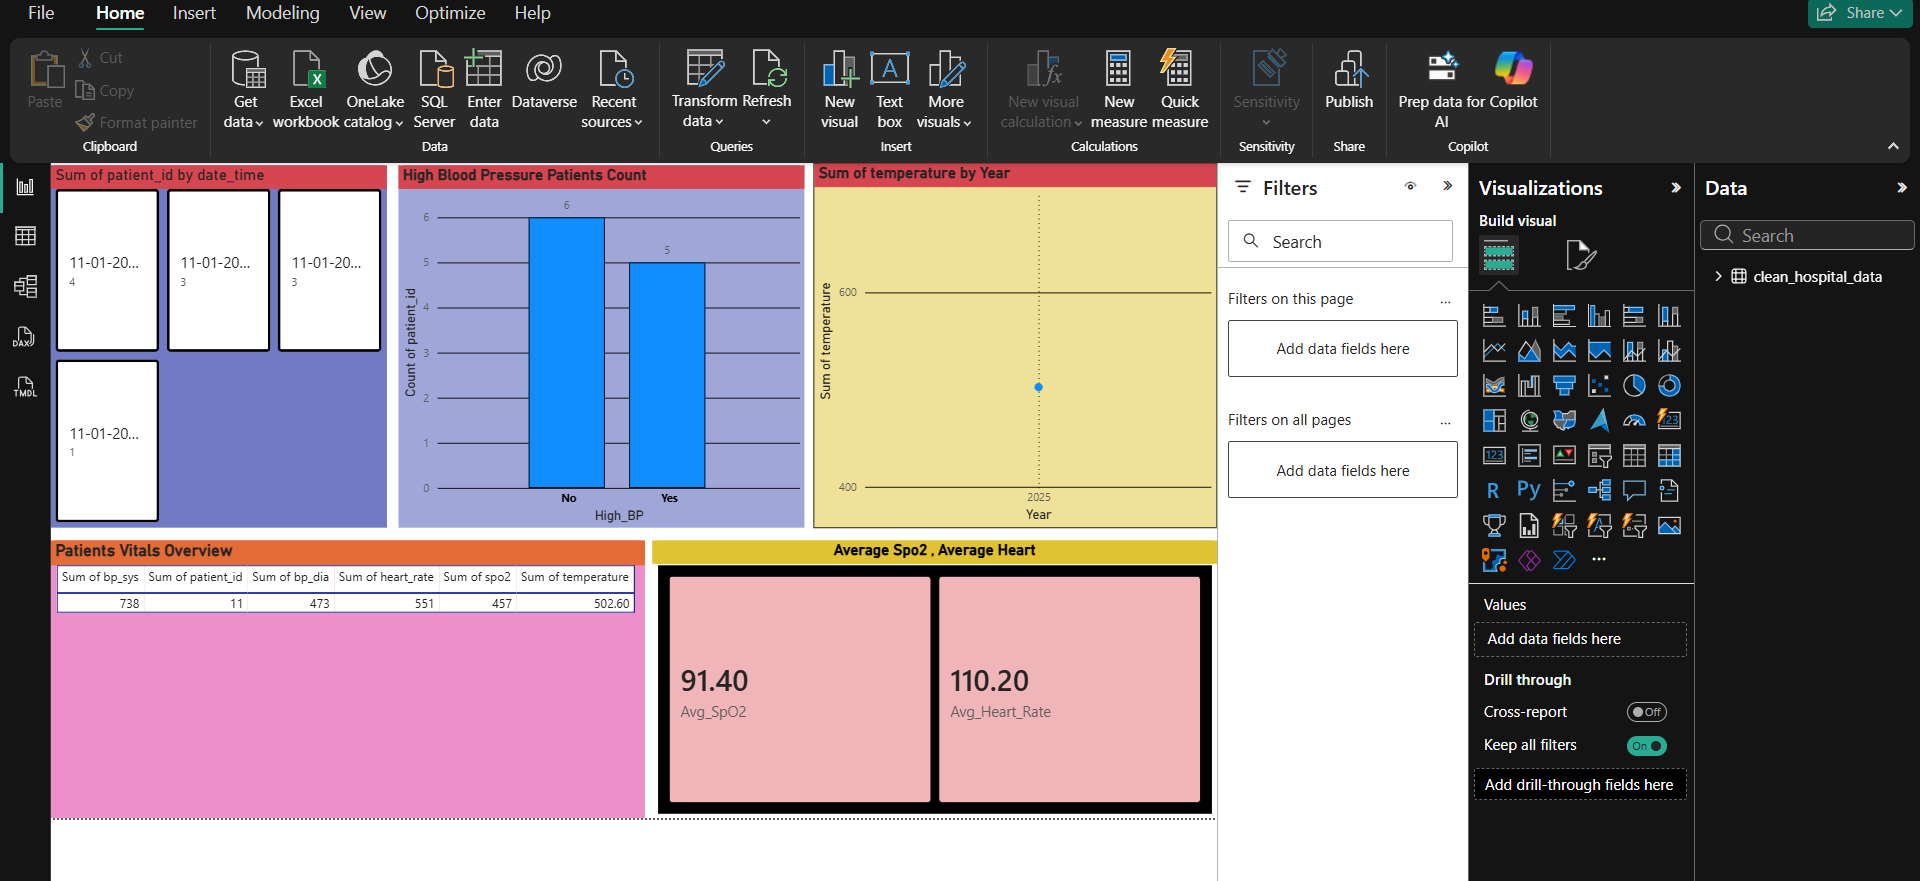

What the dashboard file says about the page in this screenshot:
{"tool":"powerbi","page":{"name":"Page 1","canvas":[1280,720],"ordinal":0},"visuals":[{"type":"lineChart","fields":{"Category":["clean_hospital_data.date_time.Variation.Date Hierarchy.Year","clean_hospital_data.date_time.Variation.Date Hierarchy.Quarter","clean_hospital_data.date_time.Variation.Date Hierarchy.Month","clean_hospital_data.date_time.Variation.Date Hierarchy.Day"],"Y":["Sum(clean_hospital_data.temperature)"]},"box":[837.1,0,443.2,400.7],"z":0},{"type":"cardVisual","title":"Average Spo2 , Average Heart","fields":{"Data":["clean_hospital_data.Avg_SpO2","clean_hospital_data.Avg_Heart_Rate"]},"box":[660,414.4,620.2,306],"z":1000},{"type":"columnChart","title":"High Blood Pressure Patients Count","fields":{"Category":["clean_hospital_data.High_BP"],"Y":["Sum(clean_hospital_data.patient_id)"]},"box":[381.5,2.7,446,397.9],"z":2000},{"type":"tableEx","title":"Patients Vitals Overview","fields":{"Values":["Sum(clean_hospital_data.bp_sys)","Sum(clean_hospital_data.patient_id)","Sum(clean_hospital_data.bp_dia)","Sum(clean_hospital_data.heart_rate)","Sum(clean_hospital_data.spo2)","Sum(clean_hospital_data.temperature)"]},"box":[0,414.4,651.8,306],"z":3000},{"type":"actionButton","box":[0,0,100,40],"z":4000},{"type":"advancedSlicerVisual","fields":{"Values":["clean_hospital_data.date_time"],"Label":["Sum(clean_hospital_data.patient_id)"]},"box":[0,2.7,369.1,397.9],"z":5000}]}

Visuals, with their boxes on the page's 1280x720 design canvas (x1, y1, x2, y2). These are canvas units, not pixel positions in the 1920x881 screenshot, which may show the page scaled, cropped or inside an application window:
lineChart - clean_hospital_data.date_time.Variation.Date Hierarchy.Year x clean_hospital_data.date_time.Variation.Date Hierarchy.Quarter: [left=837, top=0, right=1280, bottom=401]
"Average Spo2 , Average Heart" cardVisual: [left=660, top=414, right=1280, bottom=720]
"High Blood Pressure Patients Count" columnChart: [left=382, top=3, right=828, bottom=401]
"Patients Vitals Overview" tableEx: [left=0, top=414, right=652, bottom=720]
actionButton: [left=0, top=0, right=100, bottom=40]
advancedSlicerVisual - clean_hospital_data.date_time x Sum(clean_hospital_data.patient_id): [left=0, top=3, right=369, bottom=401]
